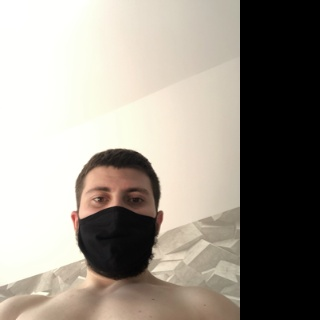with_mask: (76, 180, 159, 280)
